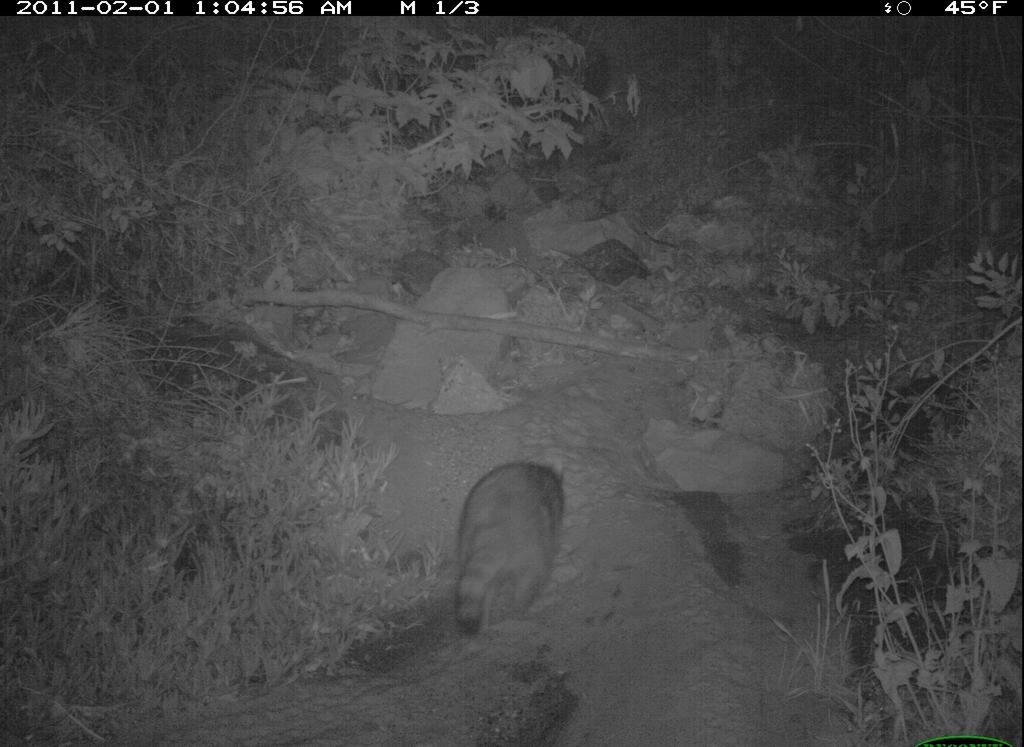raccoon: (440, 451, 582, 642)
